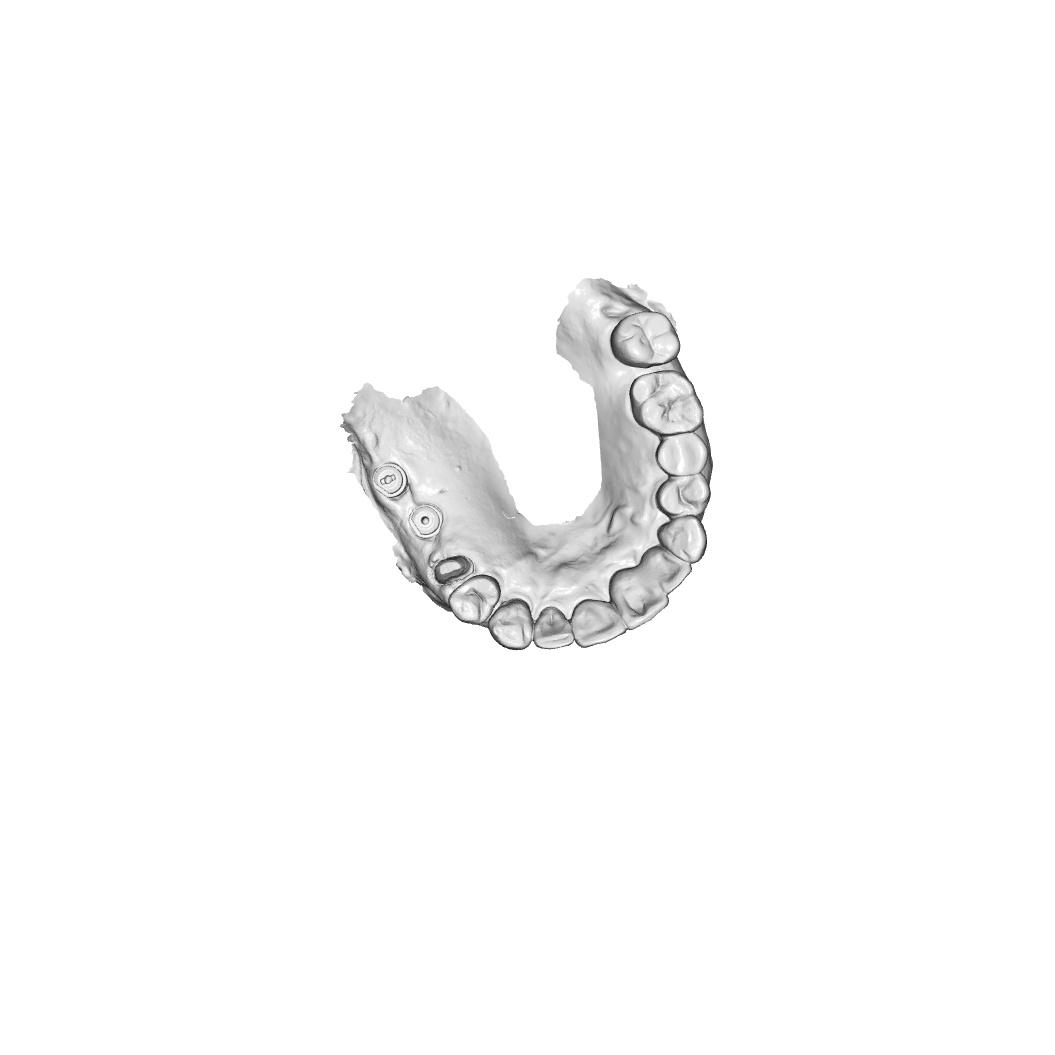canine: (656, 514, 708, 565), (487, 598, 534, 652)
crown: (432, 554, 472, 586)
implant: (407, 503, 445, 540)
implant_minus: (371, 460, 409, 500)
incisor: (608, 568, 670, 631), (569, 598, 627, 649), (639, 545, 693, 595), (532, 604, 575, 651)
molar: (629, 370, 705, 436), (610, 311, 681, 369)
premolar: (447, 573, 501, 627), (655, 473, 712, 519), (655, 431, 709, 478)
